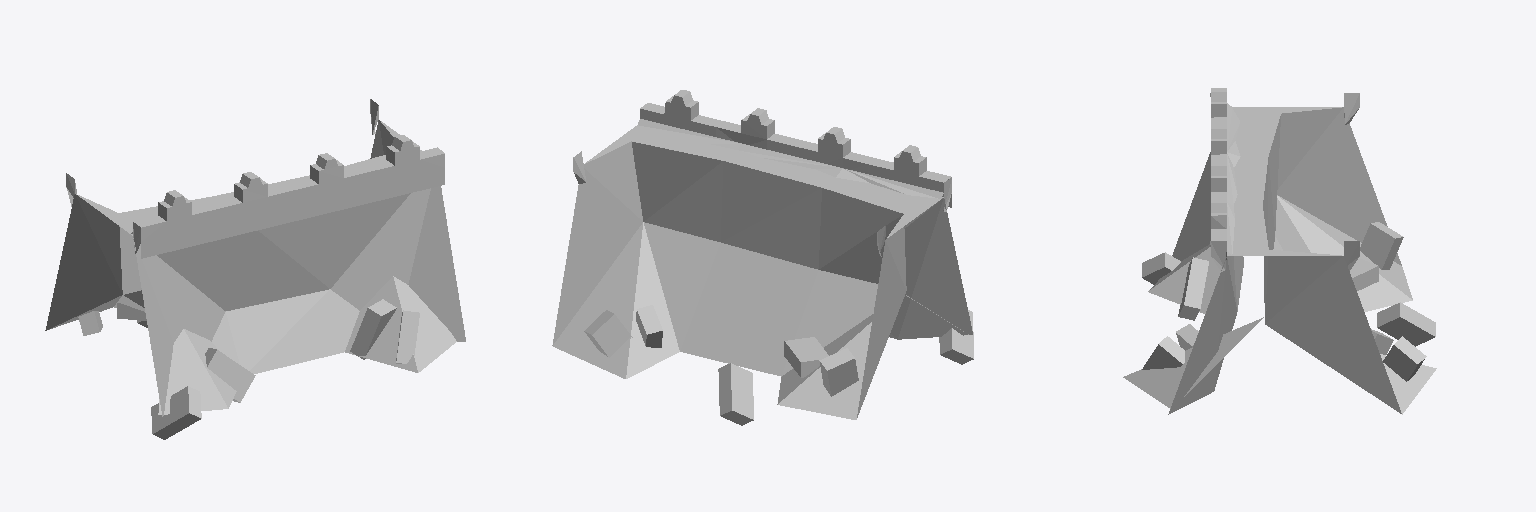
The model's file is templeStraightNarrowSmallUpHorz_prefab.obj.
3 views of the same model, side by side, from view 1: azimuth 30°, elevation 25°; view 2: azimuth 150°, elevation 25°; view 3: azimuth 270°, elevation 25° (orthographic).
Visible parts, largest first — view 1: Object53-Pivot; view 2: Object53-Pivot; view 3: Object53-Pivot.
Boxes of the visible parts, <box> form: Object53-Pivot: <box>45,99,465,439</box>; Object53-Pivot: <box>552,90,973,425</box>; Object53-Pivot: <box>1123,88,1436,414</box>.
Size of the model in its own units: 61.12 by 42.13 by 53.73.